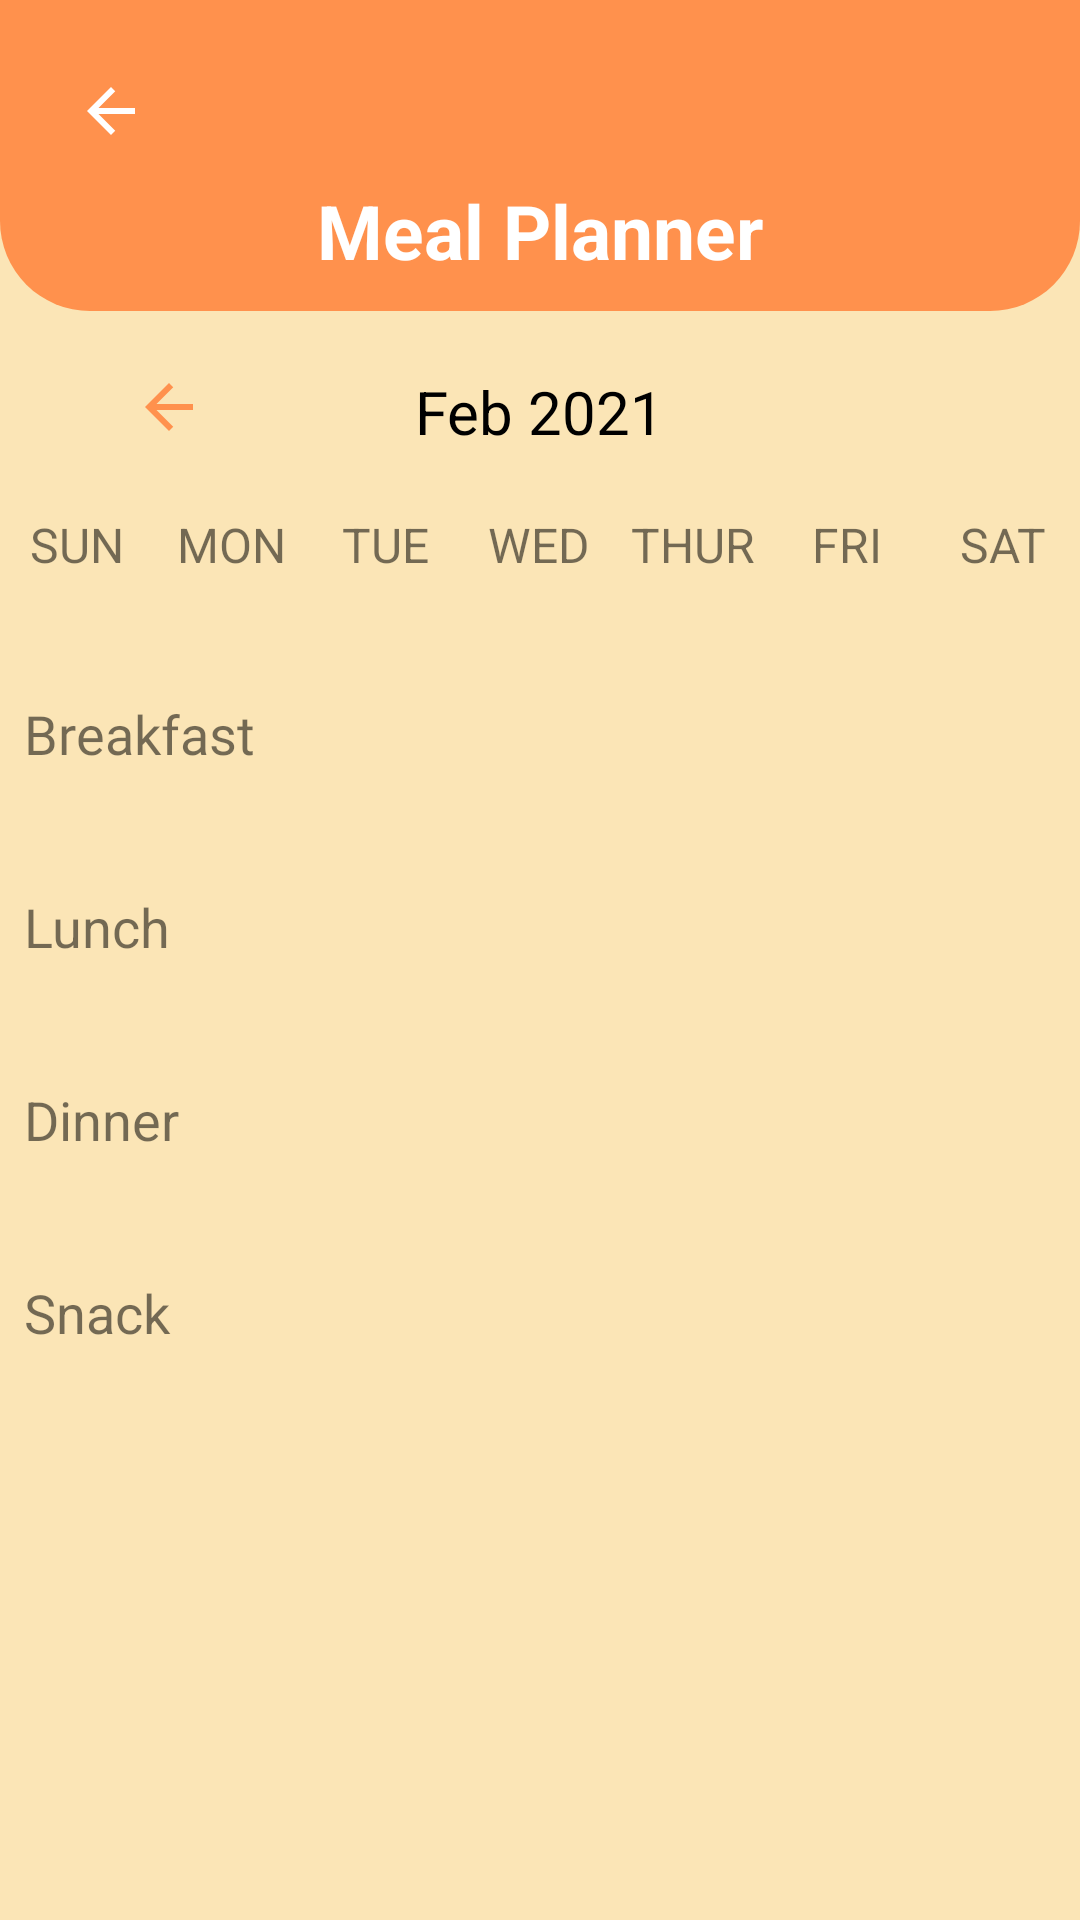

Icons on this 1080*1920 Android screen, each with its box as (x1, y1, x2, y2):
arrow back: (87, 87, 135, 135), (145, 383, 193, 431)
